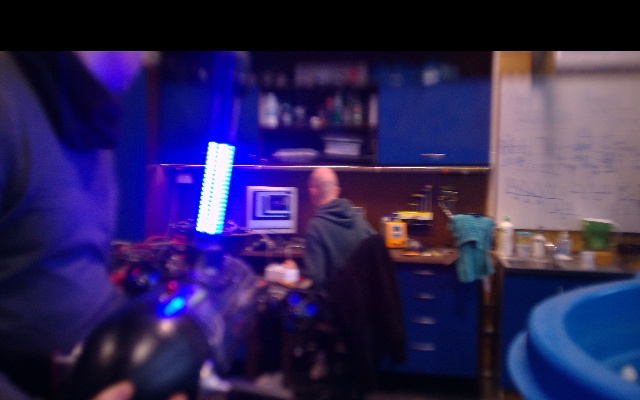blue: (193, 142, 237, 236)
